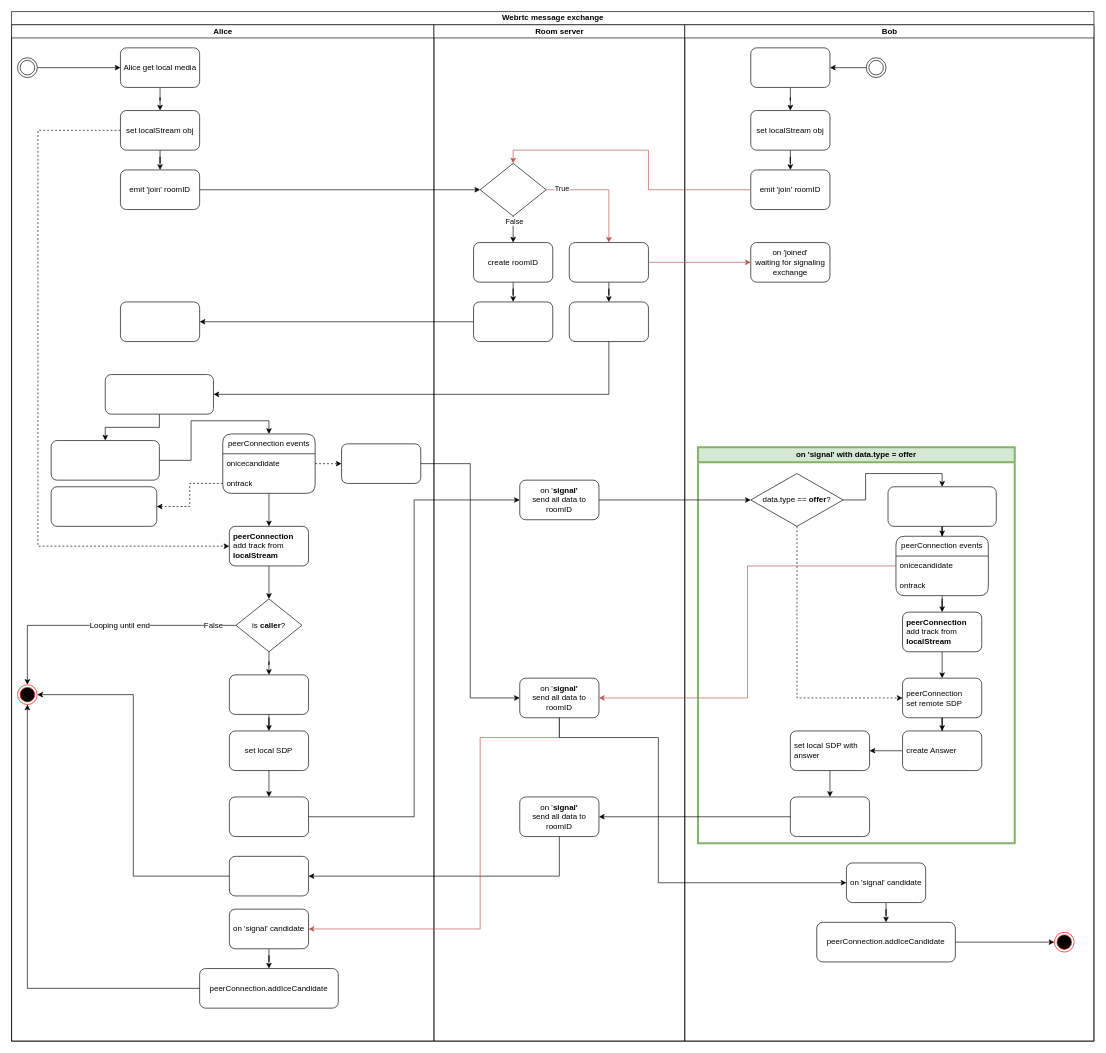
Image size: 1106x1053. Some labels were removed from this diagram. The shapes that lost their labels are listed below. From the top down, each one's centre as x and y in pixels, then its label:
point (790, 67): Bob get local media
point (512, 189): room existed?
point (608, 262): emit 'joined'
point (160, 321): on 'created' room waiting for peers join
point (513, 321): emit room 'created'
point (608, 321): emit 'ready' to creator for start signaling
point (159, 394): on 'ready' startPeer(true) // caller
point (104, 460): peerConnection = new RTCPeerConnection
point (381, 463): emit 'signal' with 'candidate' exchange
point (103, 506): set remoteVideo.srcObject
point (941, 506): on 'ready' startPeer(false) // receiver .........
point (269, 694): Create offer
point (269, 816): emit 'signal' with offer sdp
point (830, 816): emit 'signal' with data answer
point (269, 876): on ' signal' answer : set Remote SDP
